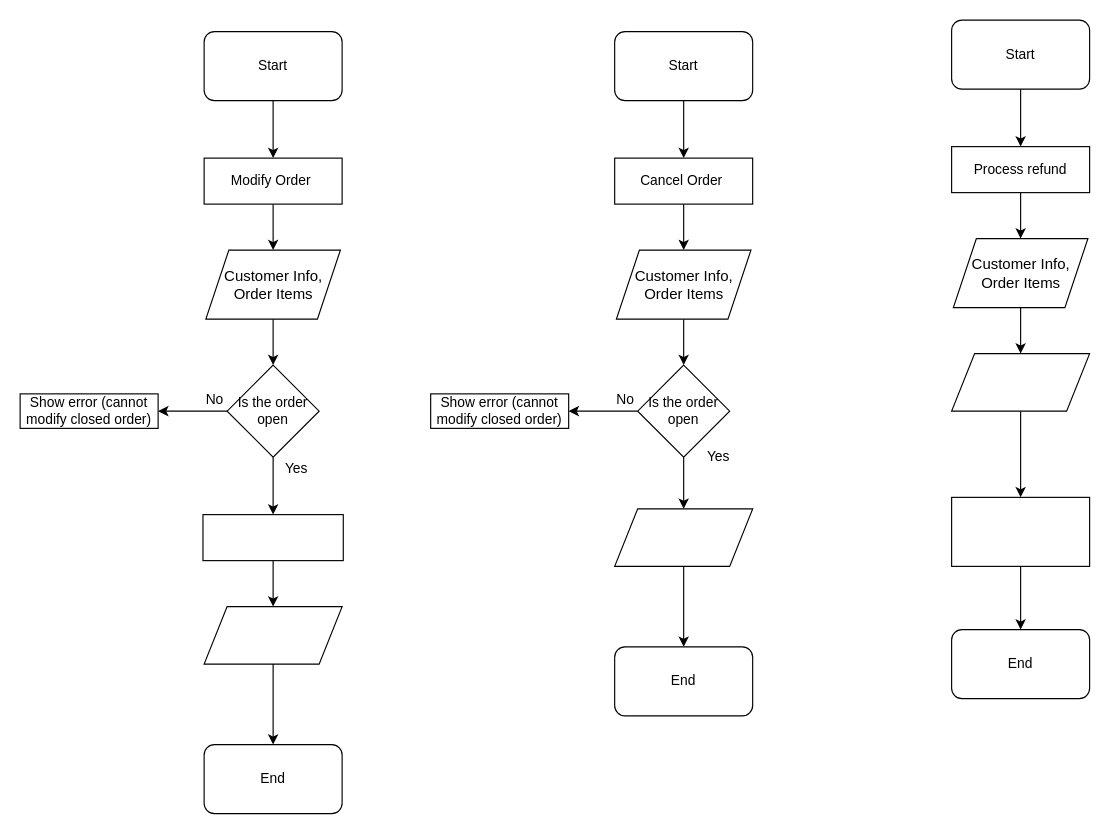
This 1110x834 diagram has some shape labels left out. Here are the shapes that lost their labels. From the top down, the centre of each, then its label:
At (x=1020, y=381): "Order Refunded".
At (x=272, y=537): "Modify Info or items".
At (x=683, y=537): "Order Canceled".
At (x=1020, y=531): "Marked as refunded".
At (x=272, y=634): "Order Modified".
